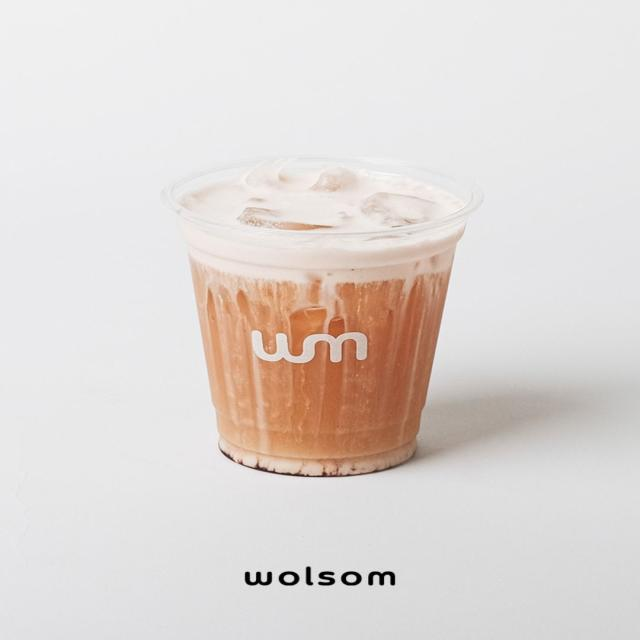plastic cup: (162, 154, 483, 478)
